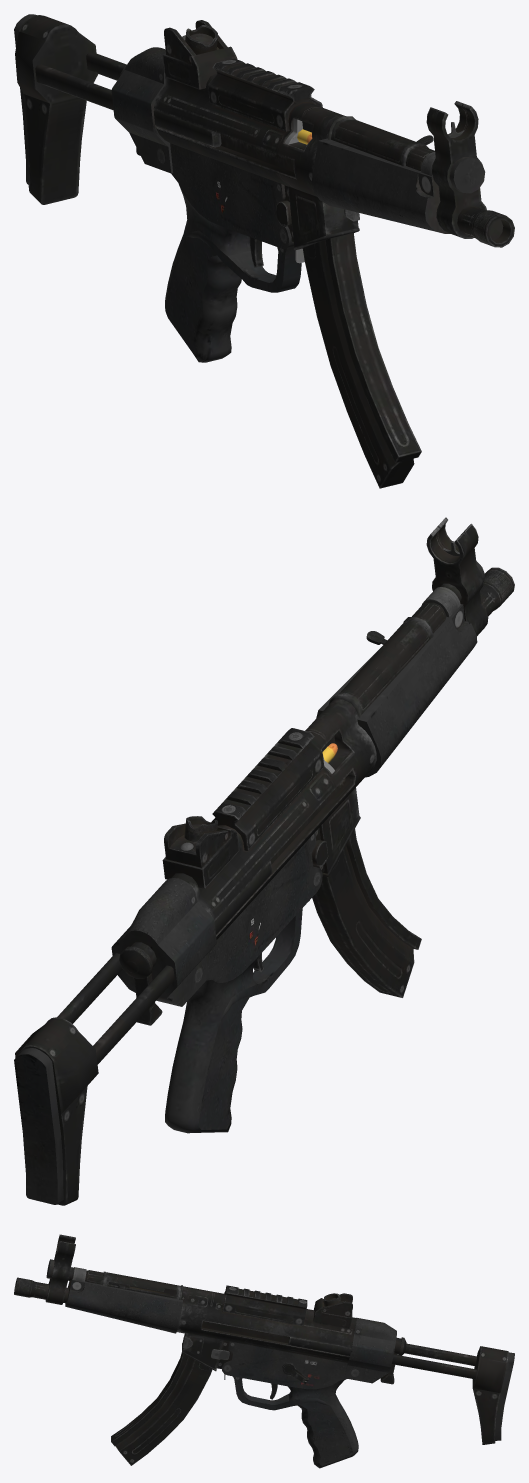
The model's file is smg.glb.
The picture shows the model from 3 angles, top to bottom: view 1: azimuth 30°, elevation 25°; view 2: azimuth 150°, elevation 25°; view 3: azimuth 270°, elevation 25°; orthographic projection. The views are drawn at different scales.
Parts seen in each view (by area): view 1: Object_9; view 2: Object_9; view 3: Object_9.
Part boxes in pixels (x1,y1,x2,y2): Object_9: (14, 14, 514, 488); Object_9: (14, 517, 514, 1205); Object_9: (14, 1234, 514, 1468).
Size of the model in its own units: 5.82 by 34.64 by 69.01.
1 material, 1 textured.
